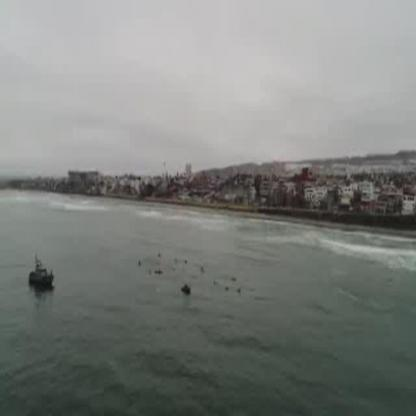Boat: (25, 257, 56, 304)
